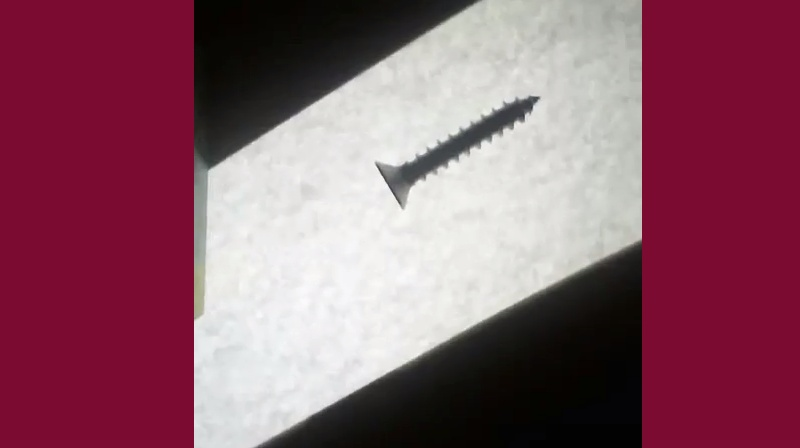S001: (370, 86, 540, 214)
